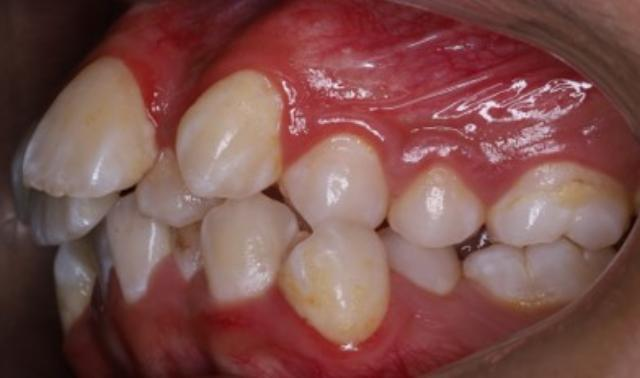canine class II full class: (174, 56, 390, 354)
molar class I: (459, 143, 636, 317)
